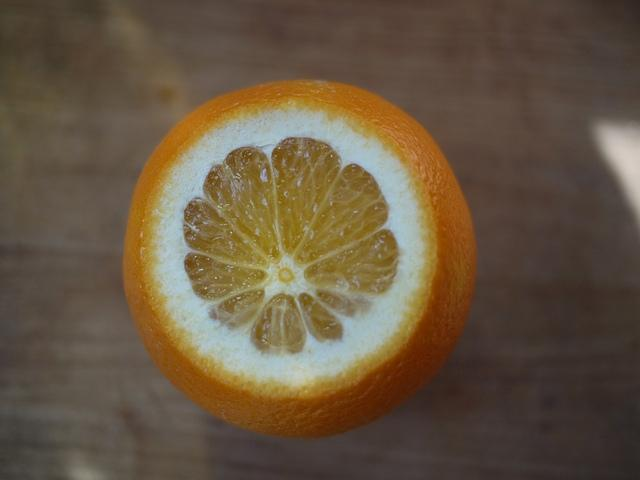orange: (124, 76, 478, 438)
